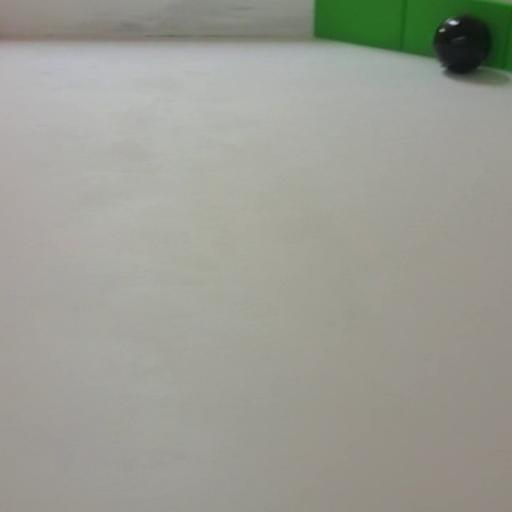dead: (430, 12, 491, 74)
